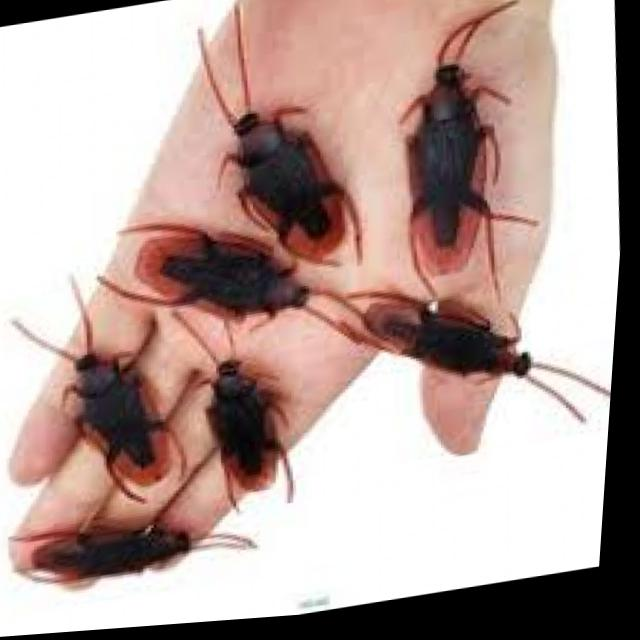Cockroach: (278, 196, 628, 519), (333, 0, 561, 367), (154, 23, 409, 324), (0, 244, 250, 551), (0, 445, 306, 639), (100, 186, 371, 387), (146, 298, 354, 544)
